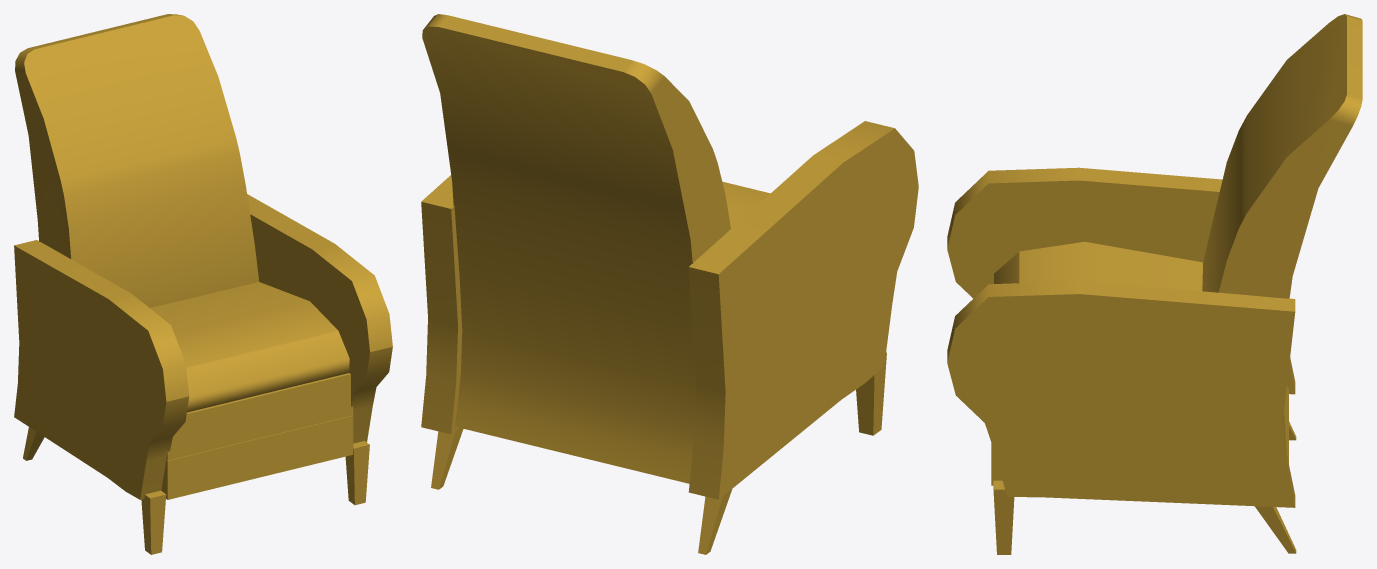
File: armchair.fbx
3 views of the same model, side by side, from view 1: azimuth 30°, elevation 25°; view 2: azimuth 150°, elevation 25°; view 3: azimuth 270°, elevation 25° (orthographic). The views are drawn at different scales.
Visible parts, largest first — view 1: pCube82; view 2: pCube82; view 3: pCube82.
Boxes of the visible parts, box(x1,y1,x2,y2) form: pCube82: box(14, 14, 392, 554); pCube82: box(421, 14, 918, 554); pCube82: box(947, 14, 1362, 554).
Bounding box in the file's own units: 4.21 × 6.83 × 5.85.
